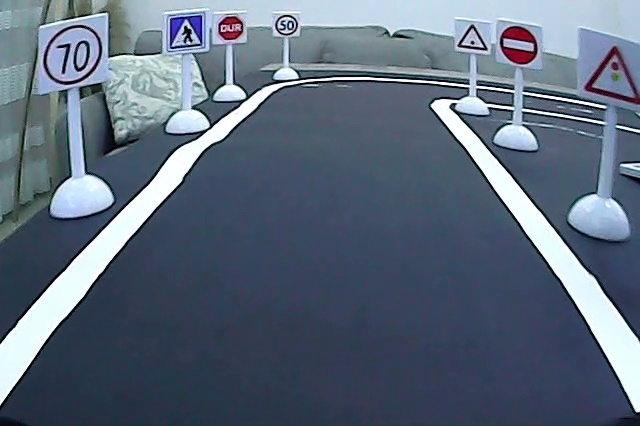do not enter: (497, 21, 541, 67)
green light: (456, 23, 489, 54)
pedestrian crossing: (166, 12, 207, 54)
red light: (581, 39, 640, 110)
speed limit 50: (274, 13, 301, 37)
speed limit 70: (40, 21, 105, 88)
stop sign: (215, 13, 246, 43)
